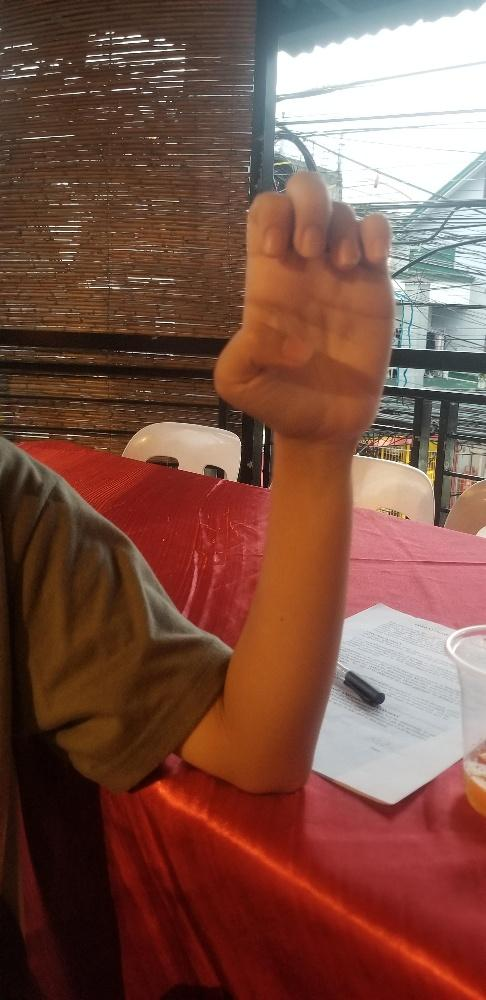e: (210, 167, 398, 439)
